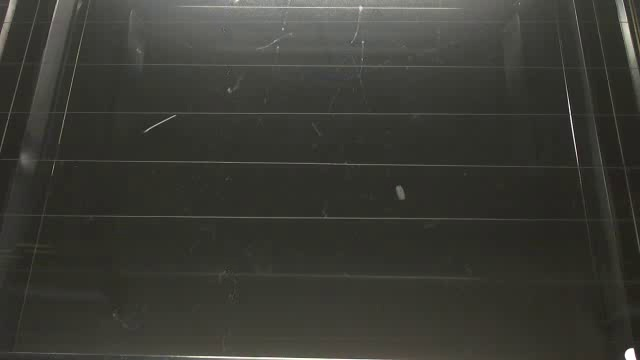Alfa: (142, 115, 177, 133), (395, 184, 406, 201)
